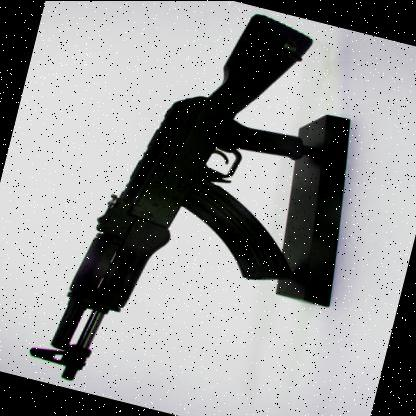rifle: (14, 0, 365, 416)
